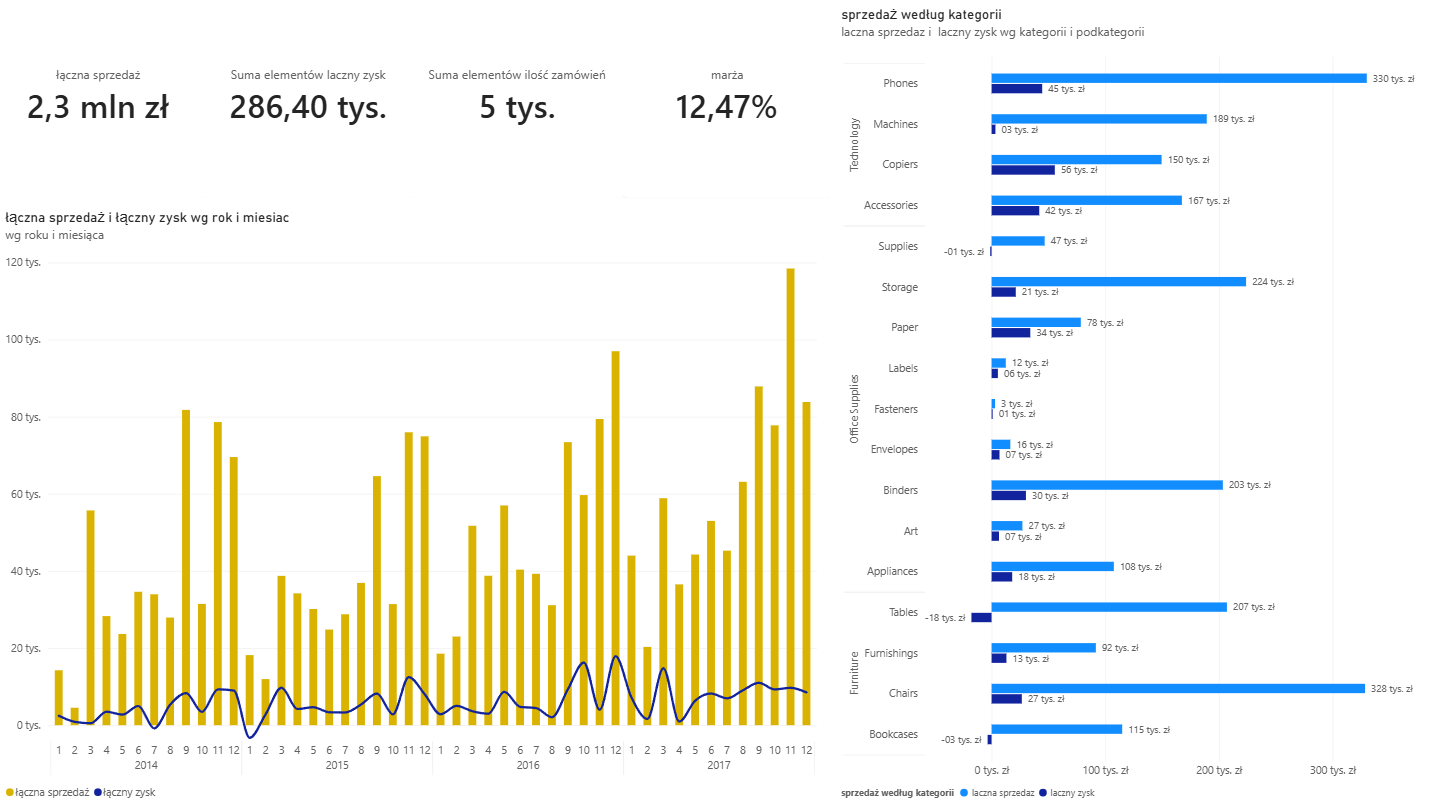

This screenshot's page, from the dashboard's own definition file:
{"tool":"powerbi","page":{"name":"kluczowe dane","canvas":[1920,1080],"ordinal":0},"visuals":[{"type":"clusteredBarChart","title":"sprzedaż według kategorii","fields":{"Category":["laczny zysk sprzedaz.kategoria","laczny zysk sprzedaz.podkategoria"],"Y":["Sum(laczny zysk sprzedaz.laczna sprzedaz)","Sum(laczny zysk sprzedaz.laczny zysk)"]},"box":[1101.1,0,819.2,1080],"z":0},{"type":"cardVisual","fields":{"Data":["Sum(laczny zysk sprzedaz.laczna sprzedaz)"]},"box":[0,0,277,267],"z":1000},{"type":"lineStackedColumnComboChart","fields":{"Category":["data.rok","data.miesiac"],"Y":["Sum(data.laczna sprzedaz)"],"Y2":["Sum(data.laczny zysk)"]},"box":[0,267.4,1101.1,812.6],"z":2000},{"type":"cardVisual","fields":{"Data":["Sum(data.laczny zysk)"]},"box":[276.1,0,277,267],"z":3000},{"type":"cardVisual","fields":{"Data":["Sum(kpi.ilość zamówień)"]},"box":[552.3,0,277,267],"z":4000},{"type":"cardVisual","fields":{"Data":["Sum(kpi.marża)"]},"box":[828.4,0,277,267],"z":5000}]}

Visuals, with their boxes in screenshot pixels (x1, y1, x2, y2), scaled from the page's 1920x1080 canvas onto the 1445x809 screenshot:
"sprzedaż według kategorii" clusteredBarChart: bbox=(829, 0, 1444, 808)
cardVisual - Sum(laczny zysk sprzedaz.laczna sprzedaz): bbox=(0, 0, 208, 200)
lineStackedColumnComboChart - data.rok x data.miesiac: bbox=(0, 200, 829, 808)
cardVisual - Sum(data.laczny zysk): bbox=(208, 0, 416, 200)
cardVisual - Sum(kpi.ilość zamówień): bbox=(416, 0, 624, 200)
cardVisual - Sum(kpi.marża): bbox=(623, 0, 832, 200)
